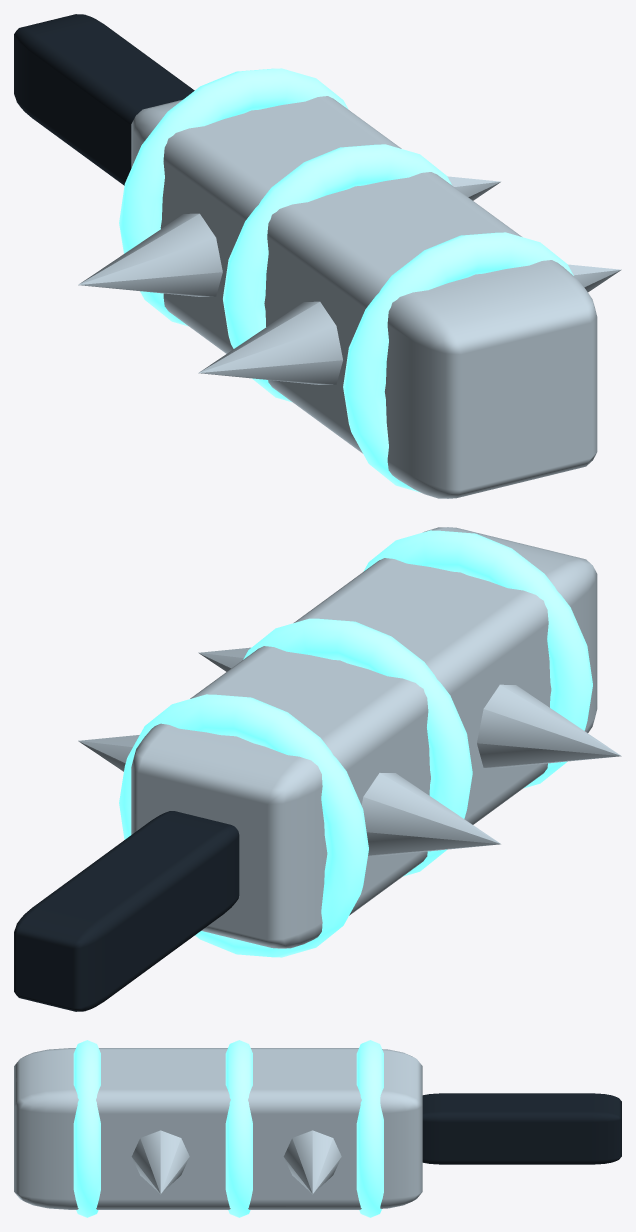
Rendered from bat-4.glb.
3 views of the same model, one above another, from view 1: azimuth 30°, elevation 25°; view 2: azimuth 150°, elevation 25°; view 3: azimuth 270°, elevation 25° (orthographic). The views are drawn at different scales.
Bounding box in the file's own units: 0.6254 × 0.3625 × 1.23.
